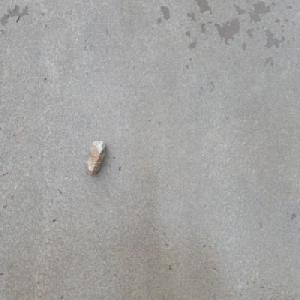Rock: (86, 139, 106, 179)
